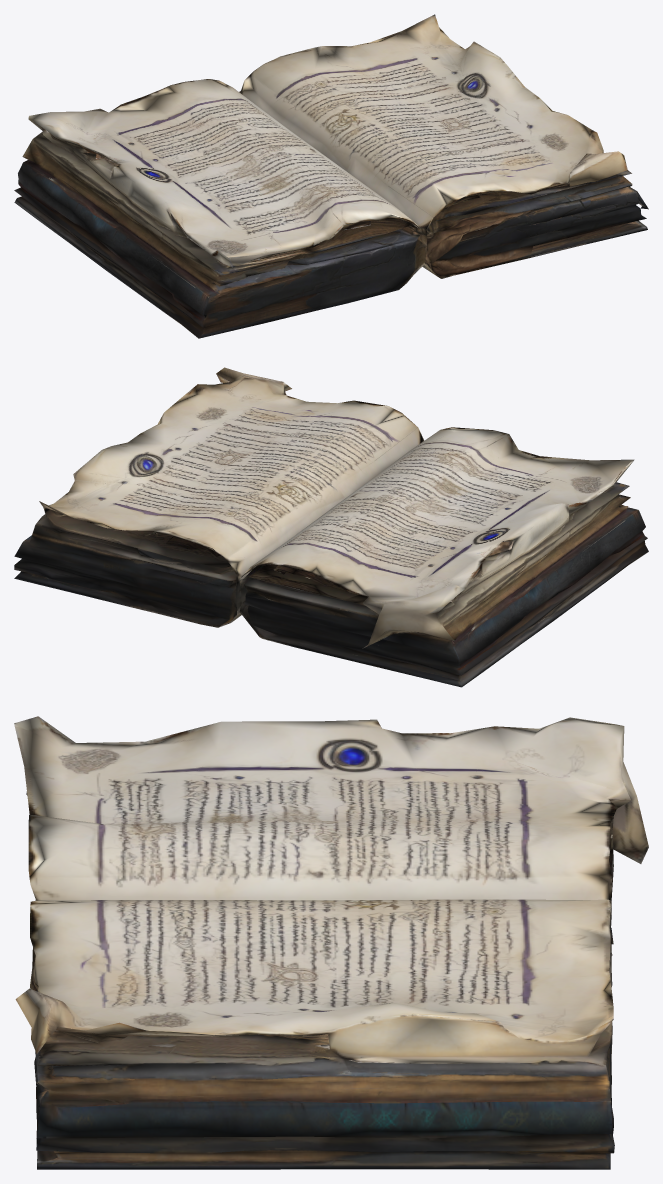
The model's file is Arcane Codex Missing Pages.fbx.
3 views of the same model, one above another, from view 1: azimuth 30°, elevation 25°; view 2: azimuth 150°, elevation 25°; view 3: azimuth 270°, elevation 25° (orthographic). The views are drawn at different scales.
Parts seen in each view (by area): view 1: Mesh1.0; view 2: Mesh1.0; view 3: Mesh1.0.
Part boxes in pixels (box(x1,y1,x2,y2)): Mesh1.0: box(14, 14, 648, 338); Mesh1.0: box(14, 367, 648, 687); Mesh1.0: box(14, 716, 648, 1169).
Size of the model in its own units: 530 by 100 by 421.
Materials: 1 (1 with a texture image).
